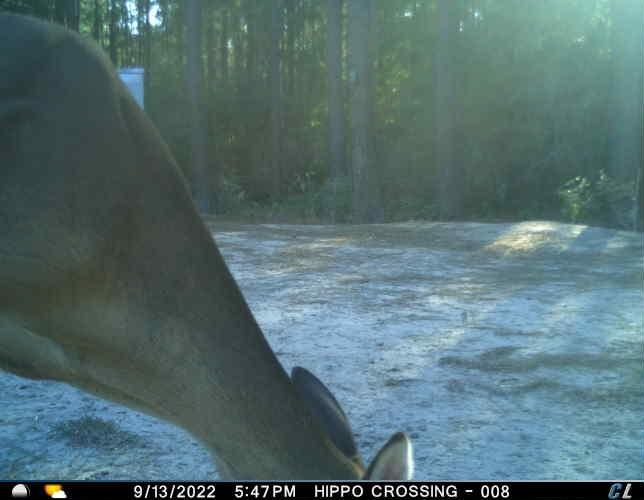Deer: (0, 5, 424, 482)
